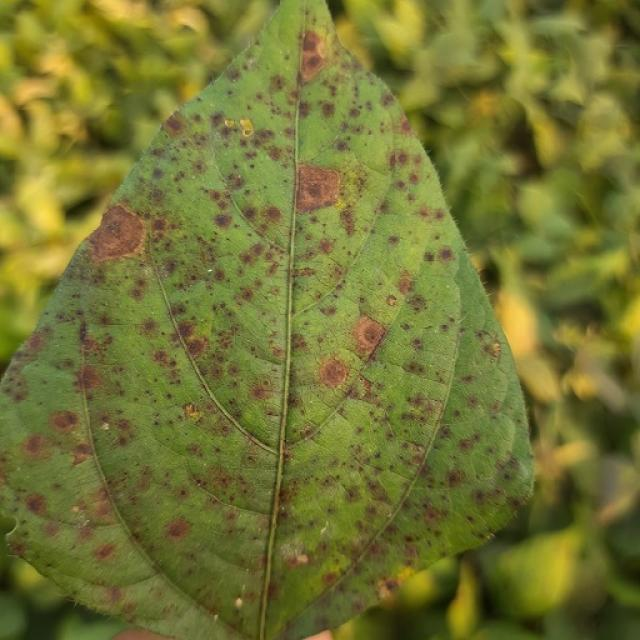Anthracnose: (290, 9, 385, 171), (218, 121, 308, 251), (489, 524, 590, 618), (17, 405, 108, 495), (378, 300, 462, 395), (293, 345, 373, 435), (84, 202, 149, 263), (492, 286, 540, 359), (288, 161, 346, 216), (294, 161, 342, 212), (299, 27, 330, 84), (352, 315, 387, 354), (472, 329, 501, 364), (319, 357, 350, 388), (238, 242, 269, 268), (21, 432, 50, 458), (76, 364, 103, 391), (388, 148, 415, 175), (50, 410, 81, 433), (207, 189, 232, 214), (162, 111, 186, 136), (127, 276, 150, 302), (165, 518, 191, 540), (23, 492, 47, 515), (182, 336, 207, 358), (396, 270, 415, 296), (94, 542, 118, 562), (69, 448, 92, 467), (150, 216, 169, 237), (446, 468, 466, 487), (269, 75, 287, 96), (183, 403, 202, 422), (138, 318, 159, 335), (226, 172, 245, 190), (381, 578, 399, 595), (213, 213, 232, 229), (320, 101, 336, 119), (239, 118, 254, 137), (319, 239, 335, 255), (438, 246, 454, 262), (226, 67, 241, 83), (265, 207, 281, 221), (489, 340, 501, 357), (151, 167, 165, 181), (335, 140, 349, 152), (386, 295, 399, 307), (411, 337, 423, 349), (234, 597, 244, 611), (100, 421, 110, 432)
Blackgram: (0, 0, 531, 639)
